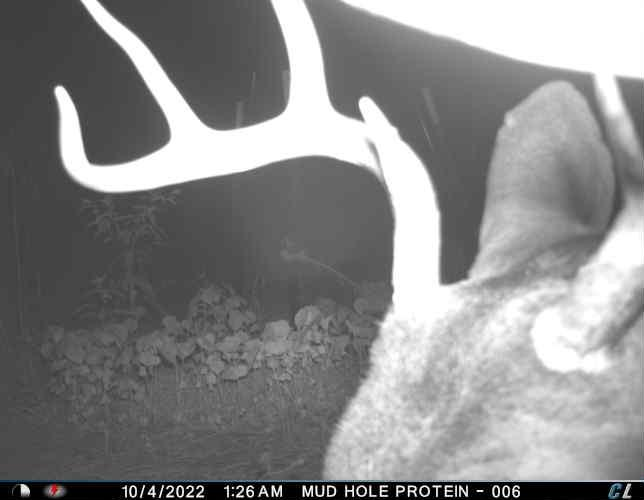Deer: (49, 0, 644, 481)
